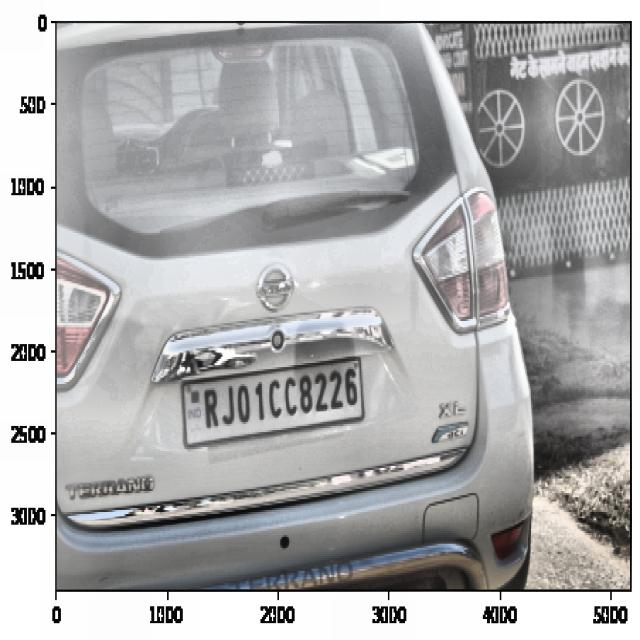license_plate: (201, 363, 360, 434)
